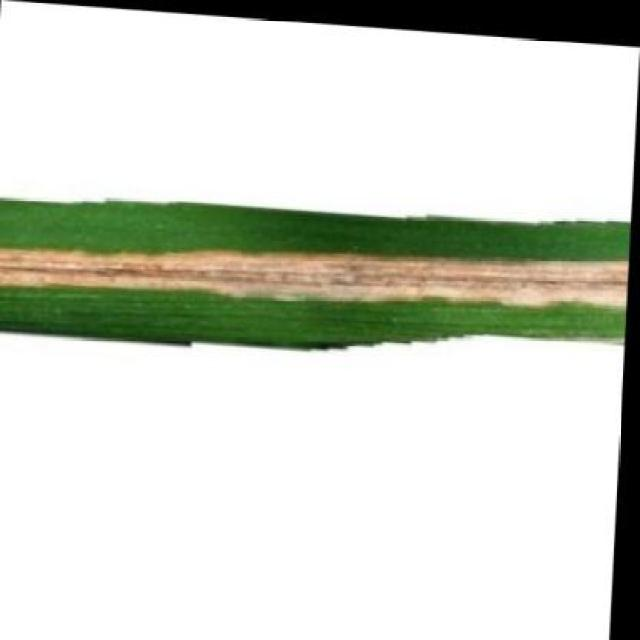Brown_Spot: (0, 169, 632, 376)
